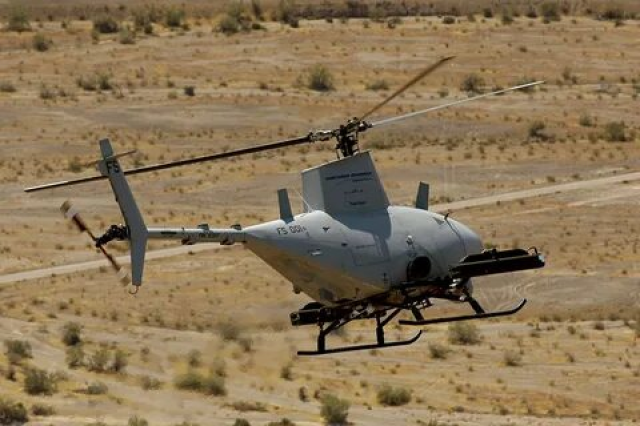military drone: (23, 54, 545, 356)
